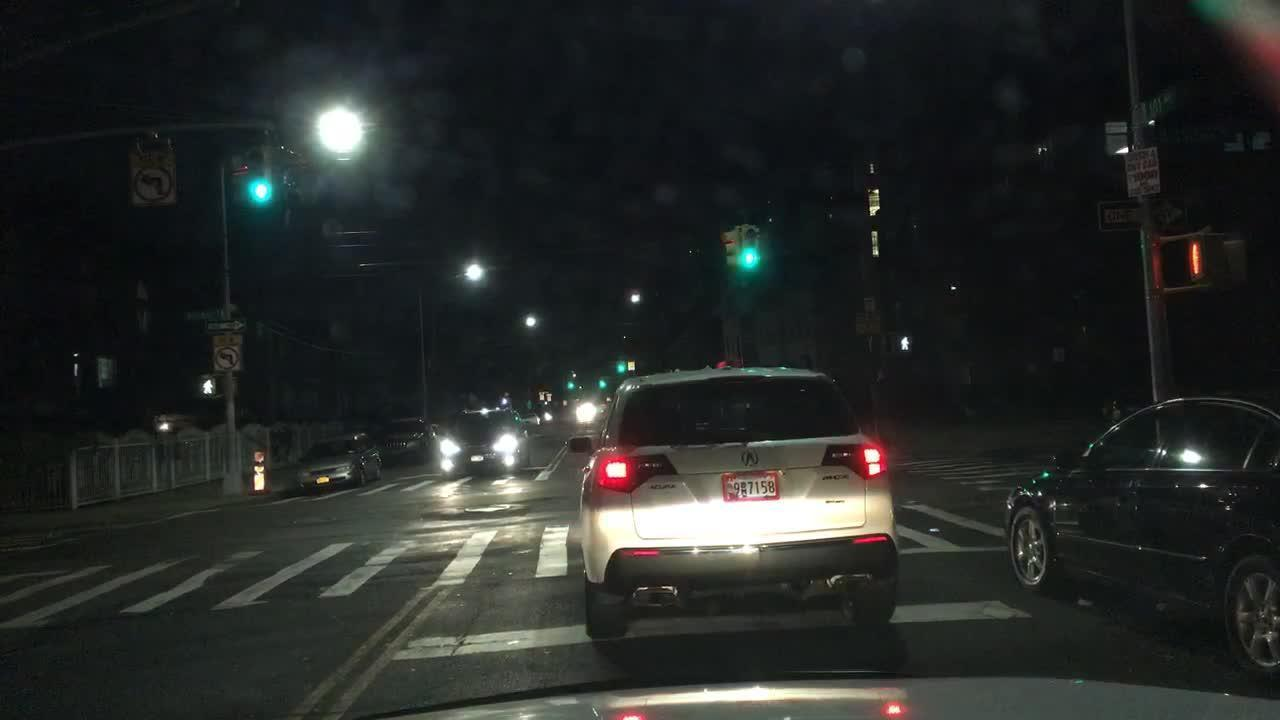acura: (737, 444, 763, 472)
